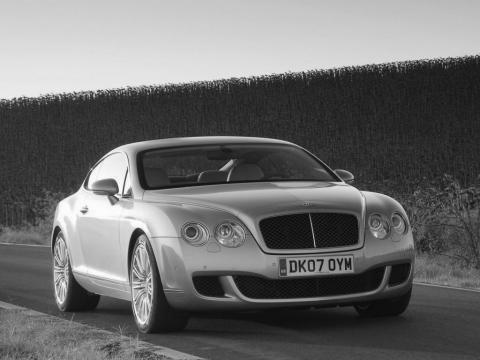car: (49, 134, 417, 334)
